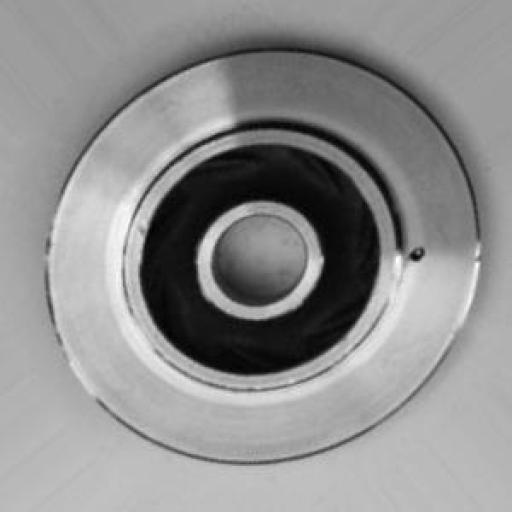defect: (408, 226, 436, 288)
